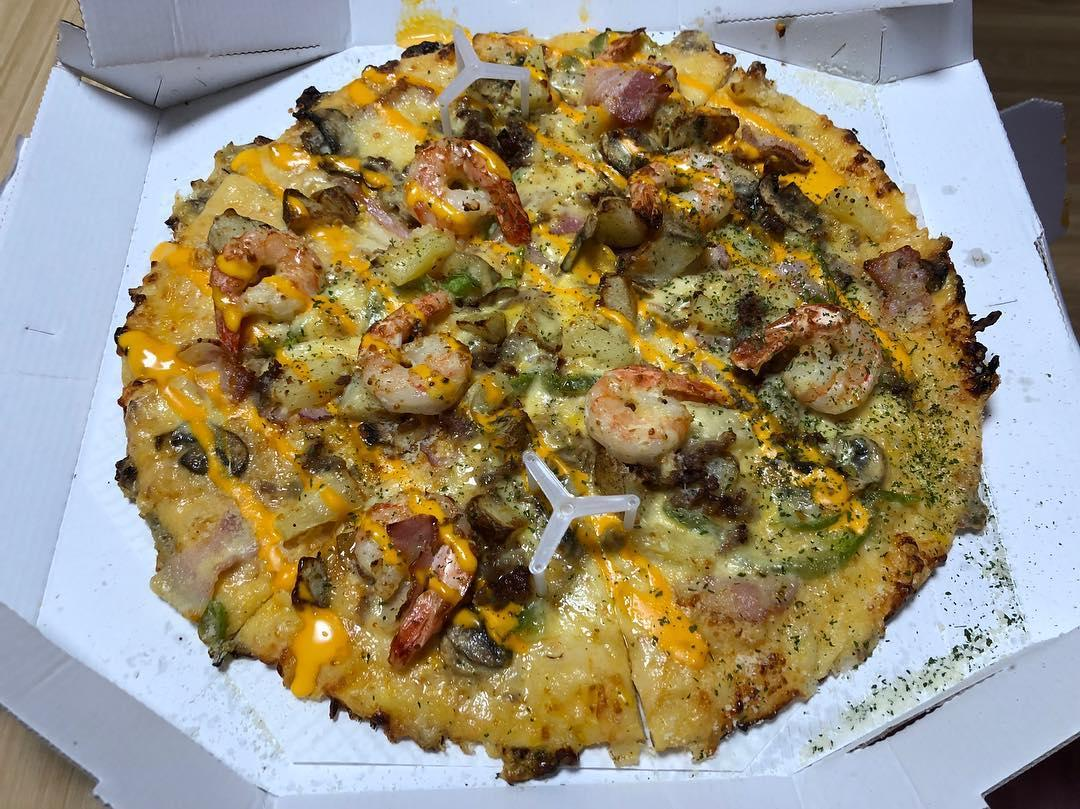Ham: (375, 512, 470, 670), (166, 513, 263, 615), (269, 182, 407, 236), (869, 242, 954, 321), (675, 570, 791, 623), (183, 339, 259, 404), (589, 68, 666, 125)
Mushroom: (143, 413, 246, 484), (758, 169, 830, 240), (456, 595, 517, 675), (823, 428, 889, 500), (300, 110, 364, 170)
Pizza: (123, 32, 993, 753)
